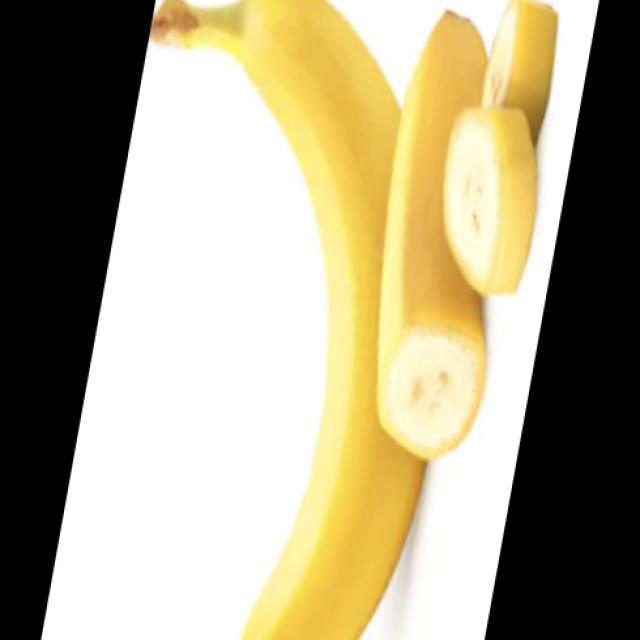god quality banana: (152, 0, 558, 640)
